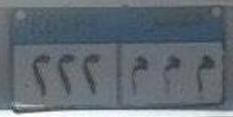2: (78, 48, 104, 94), (55, 50, 79, 99), (31, 50, 51, 97)
meem: (193, 48, 216, 99), (158, 51, 182, 97), (128, 53, 151, 101)
